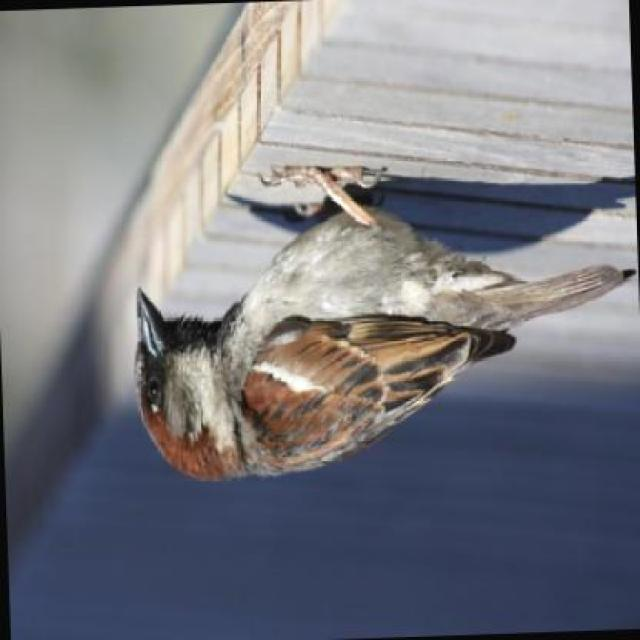sparrow: (116, 169, 624, 514)
